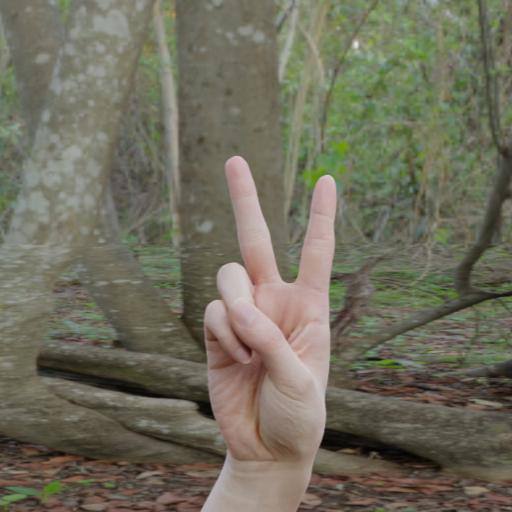V: (176, 138, 353, 486)
